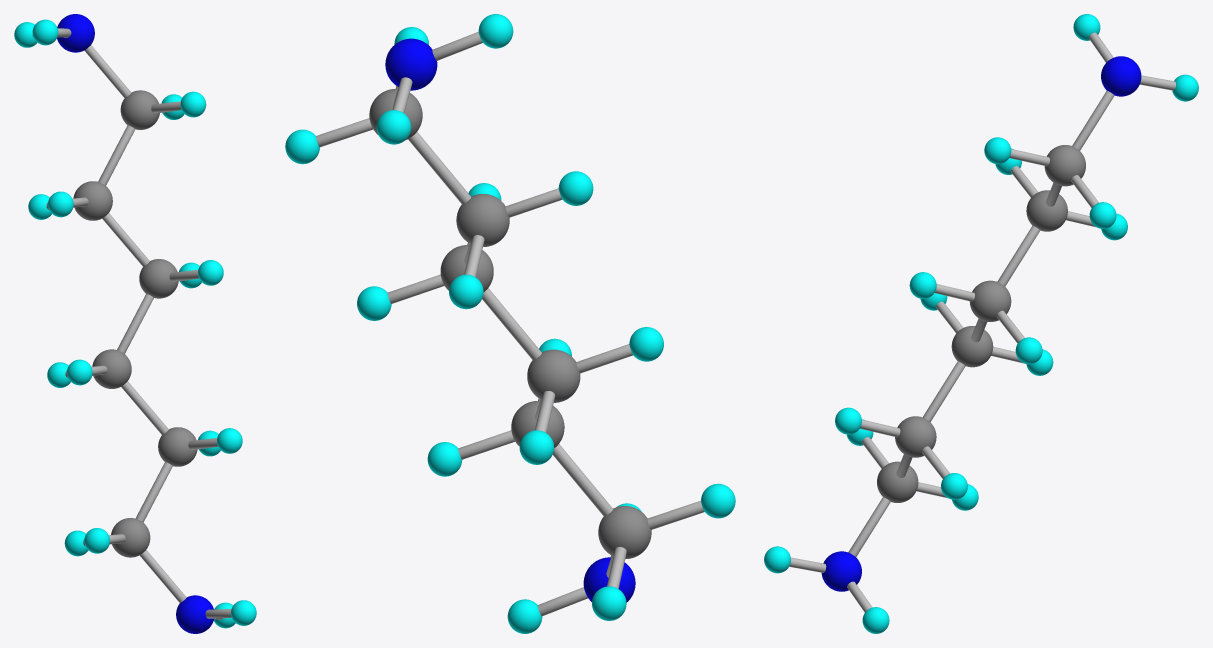
Rendered from hexamethylenediamine.glb.
The picture shows the model from 3 angles, left to right: view 1: azimuth 30°, elevation 25°; view 2: azimuth 150°, elevation 25°; view 3: azimuth 270°, elevation 25°; orthographic projection. The views are drawn at different scales.
Parts seen in each view (by area): view 1: CMAtom_0, CMAtom_12, CMAtom_6, CMAtom_15, CMAtom_1, CMAtom_9, CMAtom_18, CMAtom_19, CMBond_1_Segment_0, CMBond_15_Segment_0, CMBond_9_Segment_0, CMBond_6_Segment_0 (+15 smaller); view 2: CMAtom_9, CMAtom_1, CMAtom_15, CMAtom_19, CMAtom_6, CMAtom_12, CMAtom_18, CMAtom_0, CMBond_1_Segment_0, CMBond_15_Segment_0, CMBond_9_Segment_0, CMAtom_23 (+19 smaller); view 3: CMAtom_19, CMAtom_12, CMAtom_6, CMAtom_0, CMAtom_1, CMAtom_9, CMAtom_15, CMAtom_18, CMBond_6_Segment_0, CMBond_12_Segment_0, CMBond_18_Segment_0, CMBond_19_Segment_0.
Boxes of the visible parts, bbox=[...] form: CMAtom_0: bbox=[120, 90, 159, 129]; CMAtom_12: bbox=[158, 427, 197, 466]; CMAtom_6: bbox=[139, 259, 178, 298]; CMAtom_15: bbox=[111, 518, 150, 557]; CMAtom_1: bbox=[73, 181, 112, 220]; CMAtom_9: bbox=[92, 349, 131, 388]; CMAtom_18: bbox=[176, 595, 213, 633]; CMAtom_19: bbox=[57, 14, 94, 52]; CMBond_1_Segment_0: bbox=[98, 125, 135, 185]; CMBond_15_Segment_0: bbox=[135, 462, 172, 522]; CMBond_9_Segment_0: bbox=[117, 293, 153, 353]; CMBond_6_Segment_0: bbox=[102, 213, 149, 266]; CMAtom_9: bbox=[527, 349, 580, 402]; CMAtom_1: bbox=[456, 194, 509, 246]; CMAtom_15: bbox=[598, 506, 651, 558]; CMAtom_19: bbox=[385, 38, 437, 90]; CMAtom_6: bbox=[440, 245, 493, 291]; CMAtom_12: bbox=[511, 401, 564, 447]; CMAtom_18: bbox=[583, 557, 635, 602]; CMAtom_0: bbox=[369, 88, 422, 140]; CMBond_1_Segment_0: bbox=[408, 132, 471, 204]; CMBond_15_Segment_0: bbox=[552, 444, 613, 516]; CMBond_9_Segment_0: bbox=[482, 288, 541, 360]; CMAtom_23: bbox=[376, 110, 411, 144]; CMAtom_19: bbox=[1101, 56, 1141, 96]; CMAtom_12: bbox=[895, 416, 936, 457]; CMAtom_6: bbox=[969, 280, 1011, 321]; CMAtom_0: bbox=[1044, 145, 1085, 186]; CMAtom_1: bbox=[1026, 190, 1067, 231]; CMAtom_9: bbox=[951, 326, 993, 367]; CMAtom_15: bbox=[877, 461, 918, 502]; CMAtom_18: bbox=[821, 551, 861, 591]; CMBond_6_Segment_0: bbox=[997, 225, 1040, 286]; CMBond_12_Segment_0: bbox=[922, 361, 965, 421]; CMBond_18_Segment_0: bbox=[1072, 90, 1114, 150]; CMBond_19_Segment_0: bbox=[848, 497, 890, 556].
Bounding box in the file's own units: 3.86 × 9.46 × 6.46.
